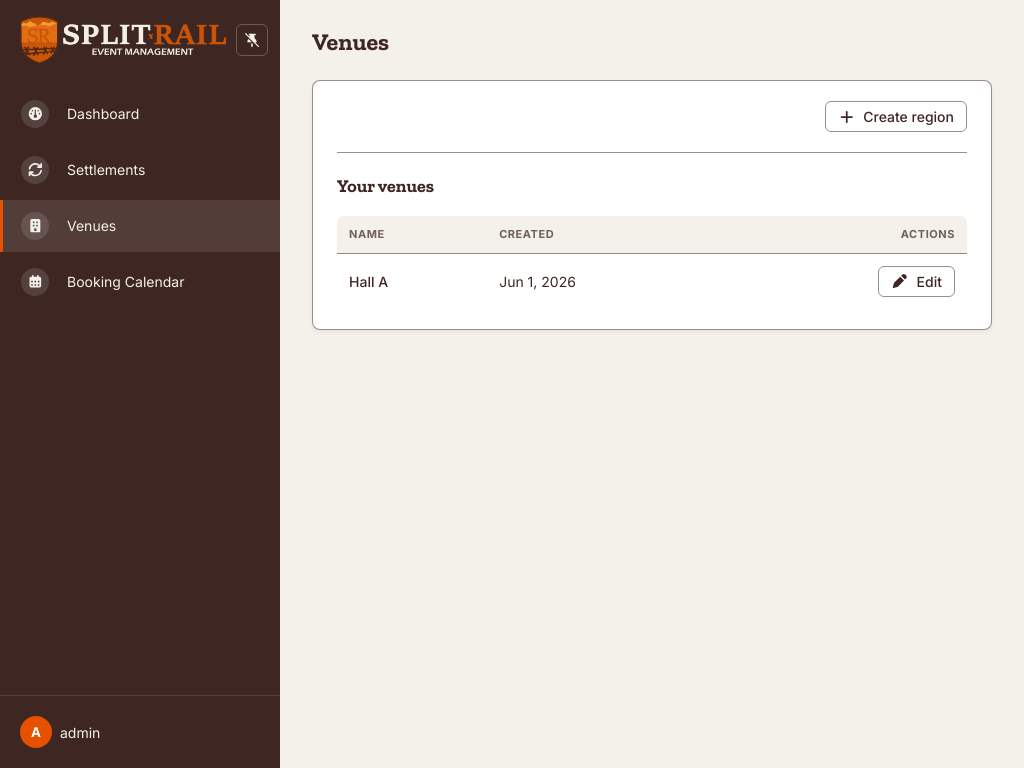
Test: VenuesPage › deletes a venue via the delete button inside the edit modal
Click the button "Edit".
click(917, 281)  # box x1=878 y1=266 x2=955 y2=296
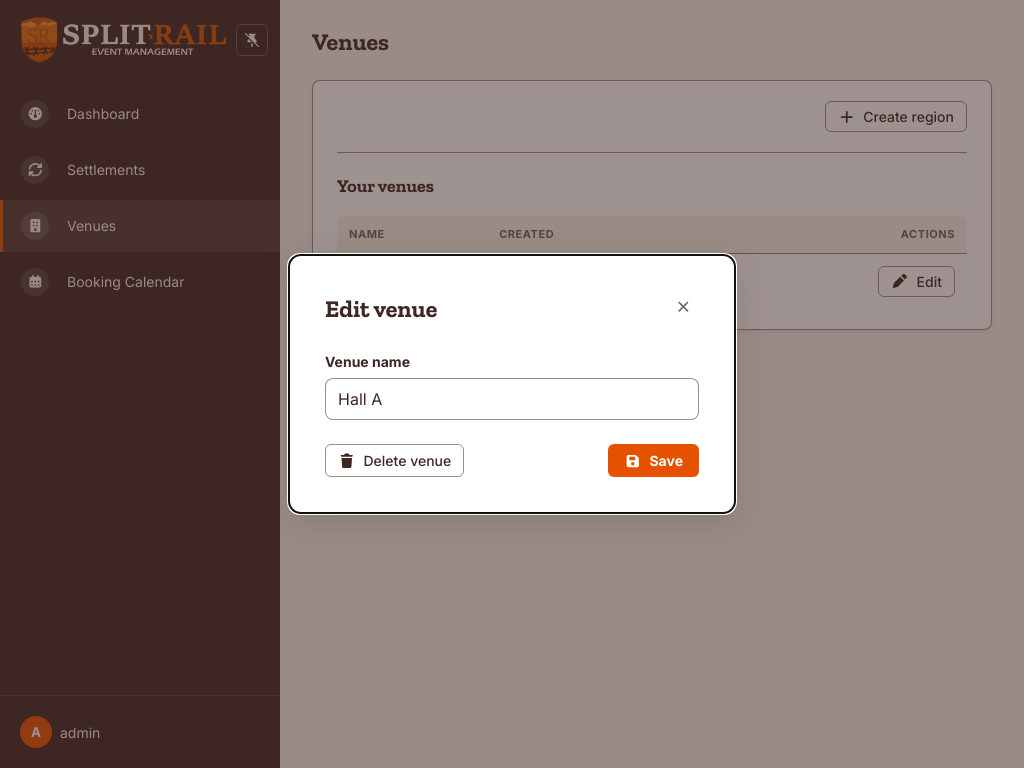
Expected: the dialog with test id "venue-edit-modal" is shown, x1=288 y1=254 x2=736 y2=514
Click the button with test id "venue-edit-delete".
click(395, 460)  # box x1=325 y1=444 x2=464 y2=477
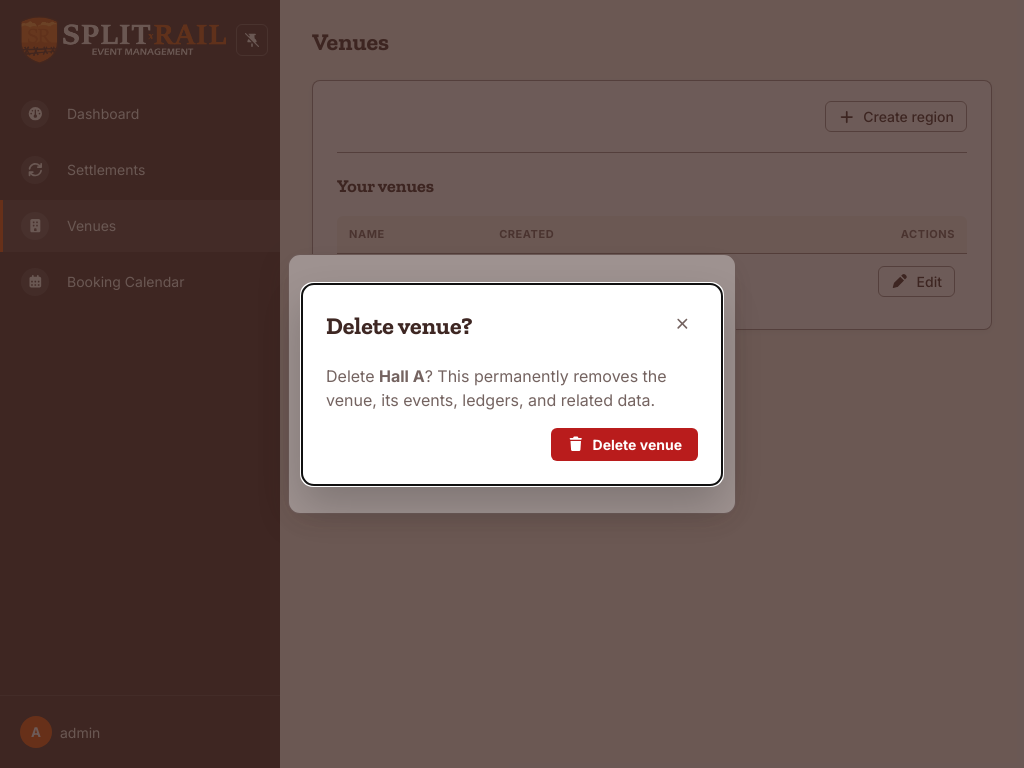
Expected: the dialog with test id "delete-venue-confirm" is shown, x1=302 y1=284 x2=722 y2=484
Click the button with test id "delete-venue-confirm-button".
click(624, 444)  # box x1=551 y1=428 x2=698 y2=460
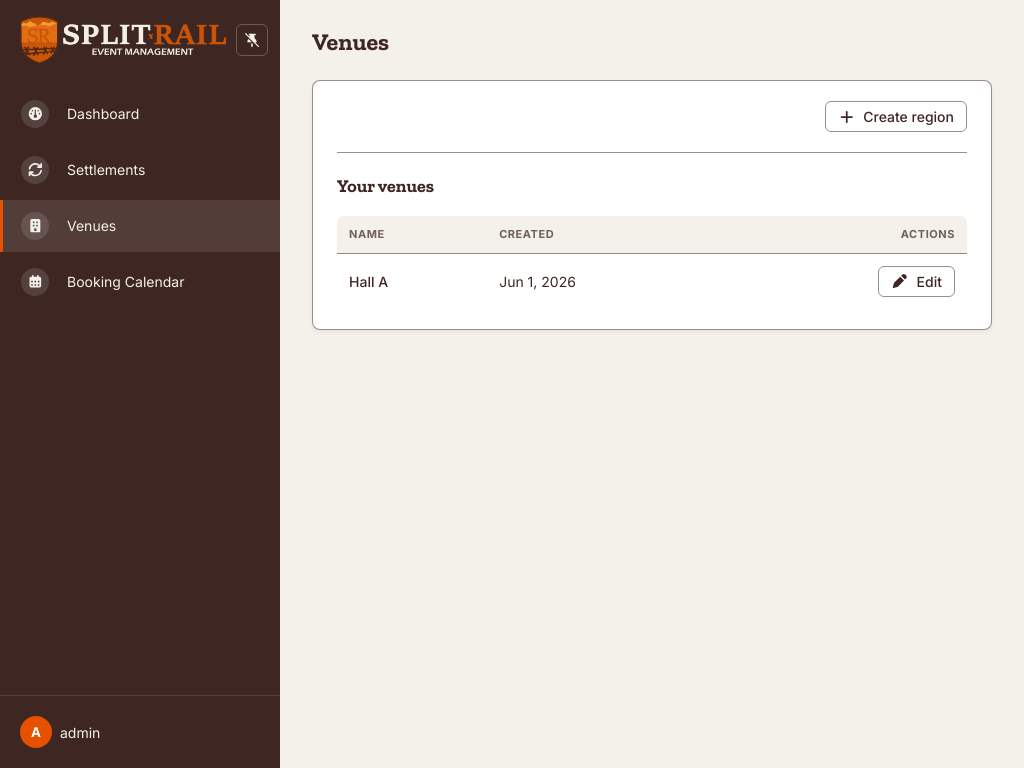
Expected: the dialog with test id "delete-venue-confirm" is gone
Expected: the dialog with test id "venue-edit-modal" is gone
